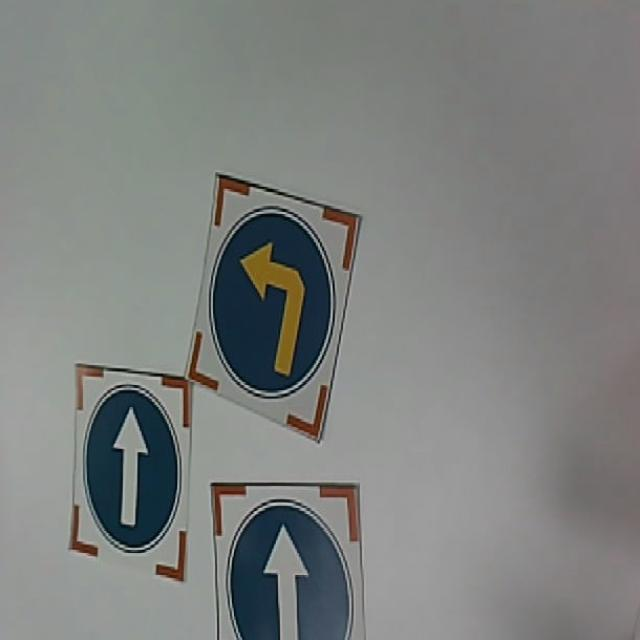straight: (70, 364, 194, 582), (210, 482, 366, 640)
turn: (183, 174, 366, 444)
